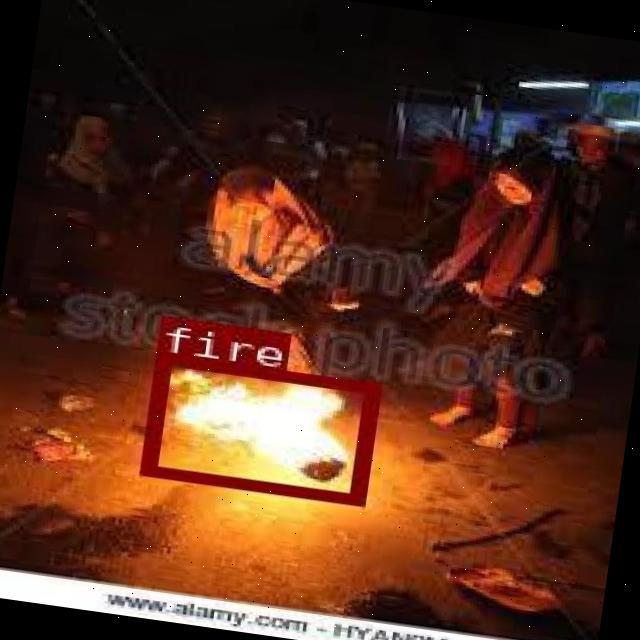fire: (137, 351, 377, 504)
